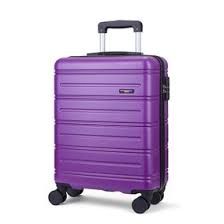suitcase: (47, 19, 171, 213)
